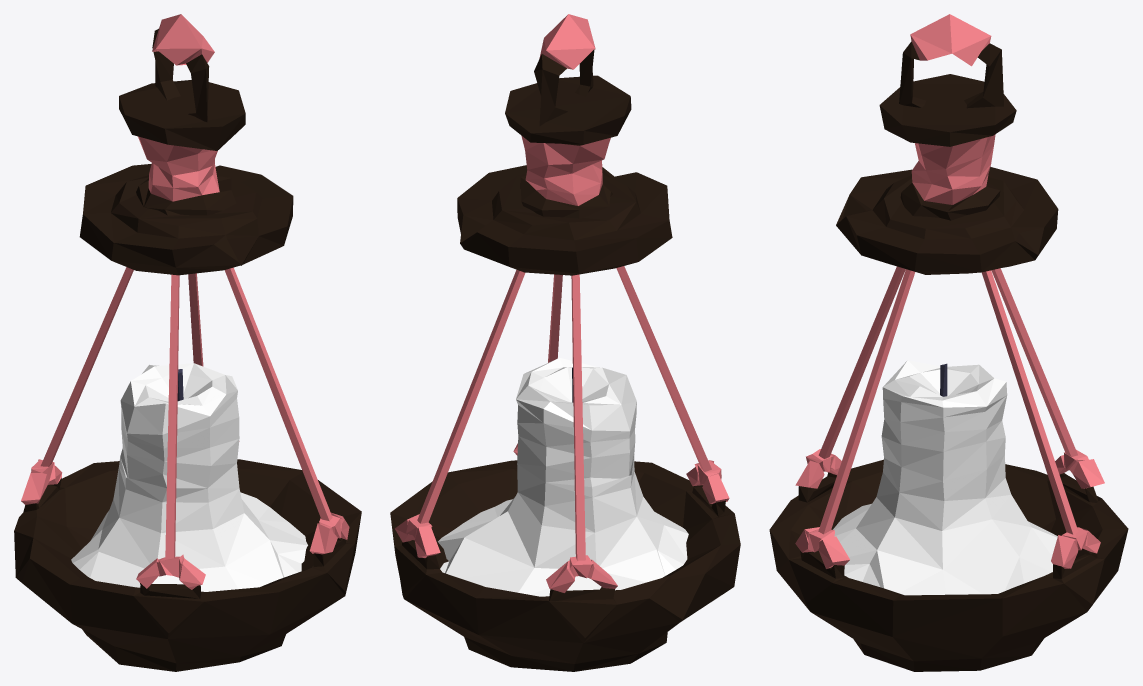
File: SFFA_Lantern.fbx
3 renders of one model, left to right at view 1: azimuth 30°, elevation 25°; view 2: azimuth 150°, elevation 25°; view 3: azimuth 270°, elevation 25°, orthographic.
Visible parts, largest first — view 1: SFFA_Lantern; view 2: SFFA_Lantern; view 3: SFFA_Lantern.
Part boxes in pixels (bbox=[...]): SFFA_Lantern: bbox=[14, 14, 361, 671]; SFFA_Lantern: bbox=[390, 14, 740, 671]; SFFA_Lantern: bbox=[769, 14, 1128, 671].
Size of the model in its own units: 24.36 by 49.18 by 25.67.
